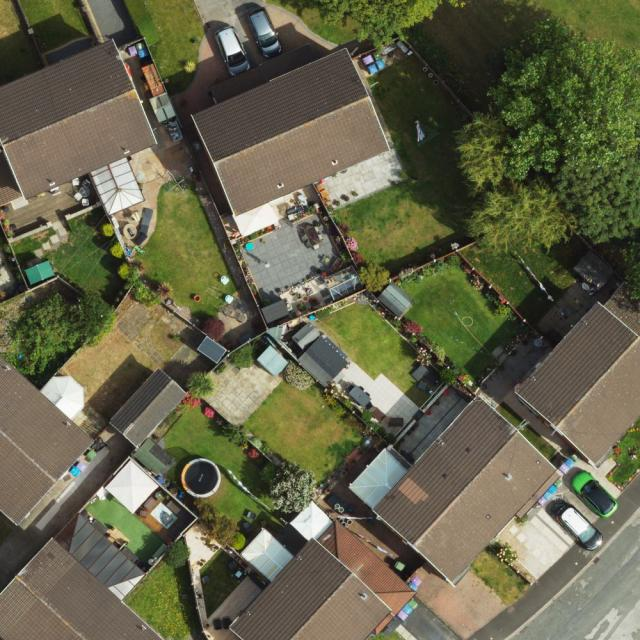roof: (346, 396, 556, 587), (190, 46, 392, 215), (0, 37, 158, 218), (518, 280, 640, 465), (231, 519, 415, 639), (0, 510, 168, 640), (0, 353, 96, 526), (109, 367, 187, 447)
skylight: (53, 512, 145, 602), (89, 157, 144, 216)
